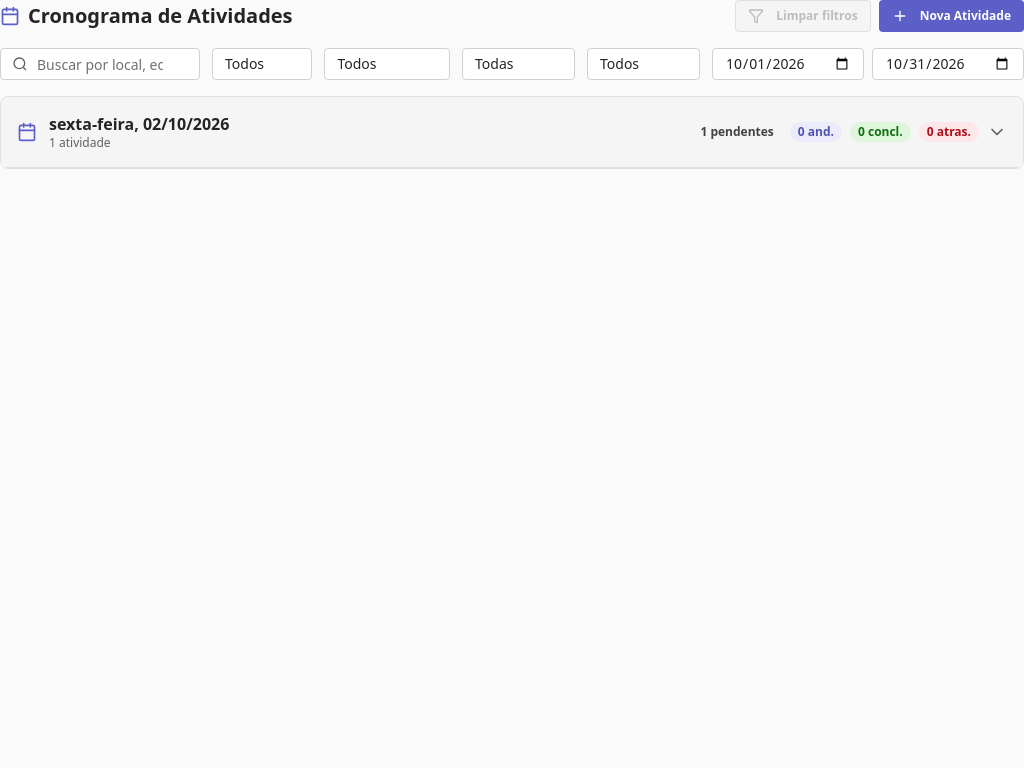
Scenario: CronogramaView — validação do formulário › bloqueia o envio sem equipe selecionada
This screenshot has width=1024, height=768.
Step 1. Click the 3rd button → (139, 124), box [1,97,1023,168]
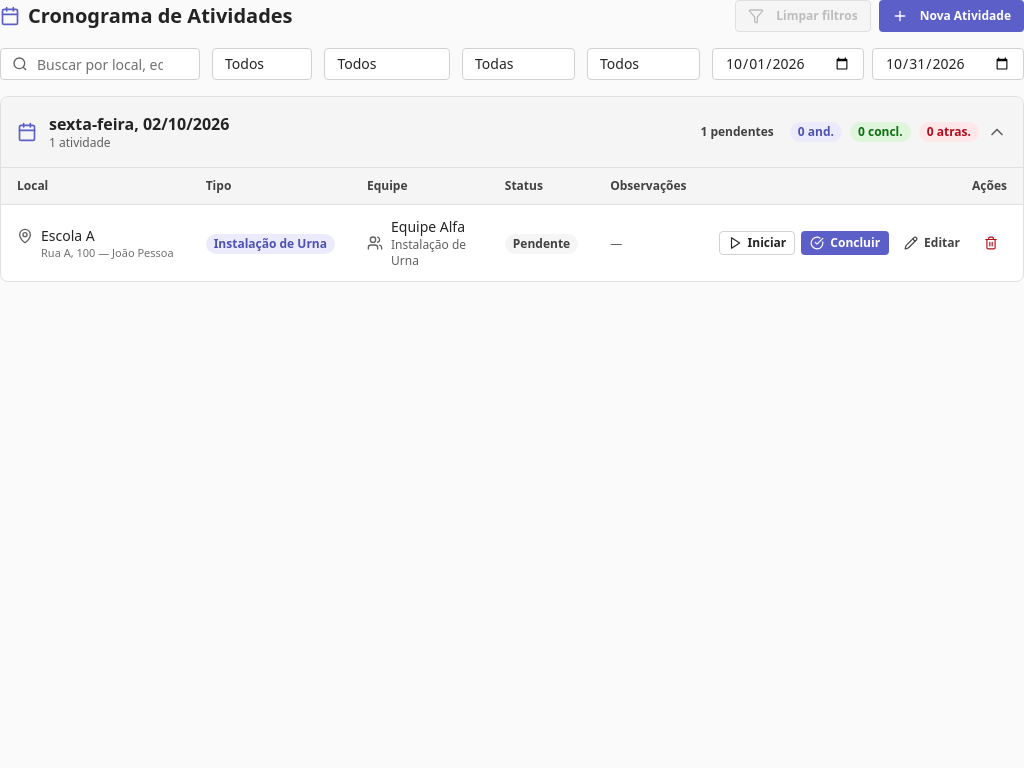
Step 2. Click the button "Editar" → (932, 243), box [895,231,969,255]
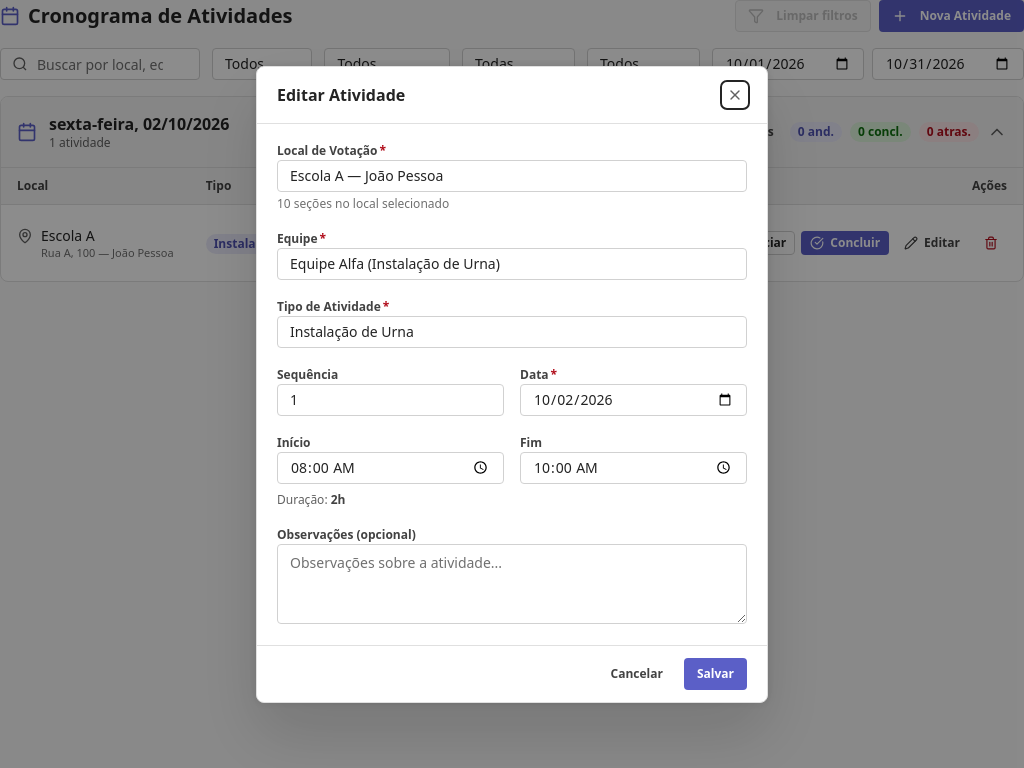
Step 3. Select "Selecione a equipe" in the dropdown labelled "Equipe*" → (512, 264), box [277,248,747,280]
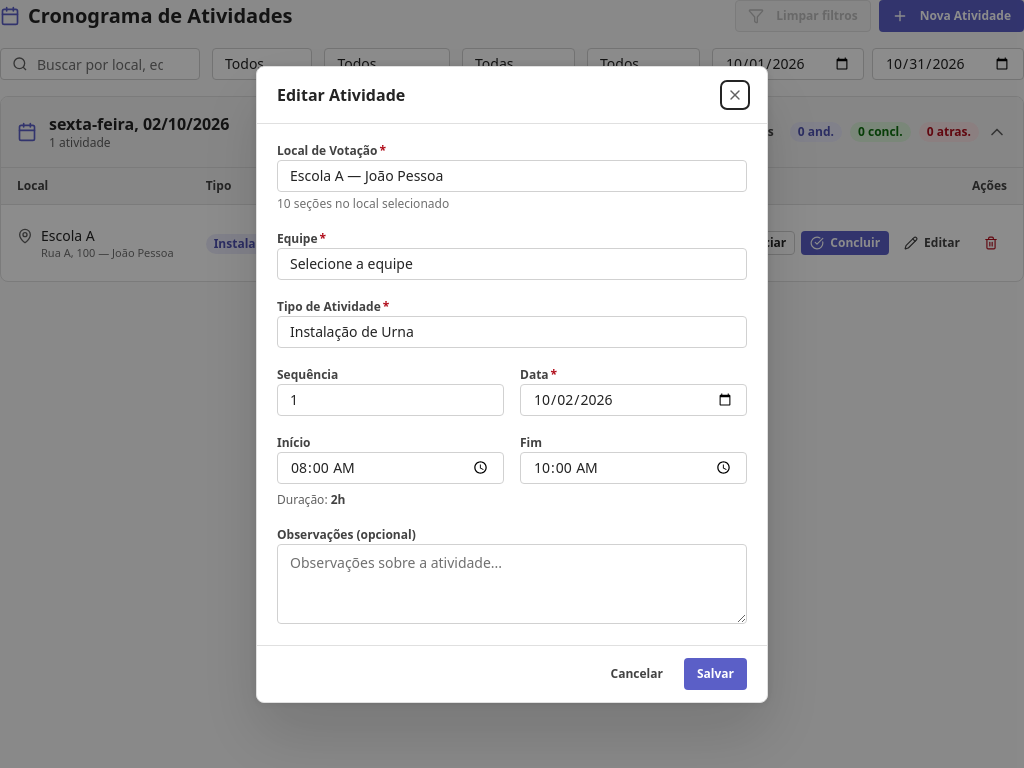
Step 4. Click the button "Salvar" → (716, 674), box [684,658,747,690]
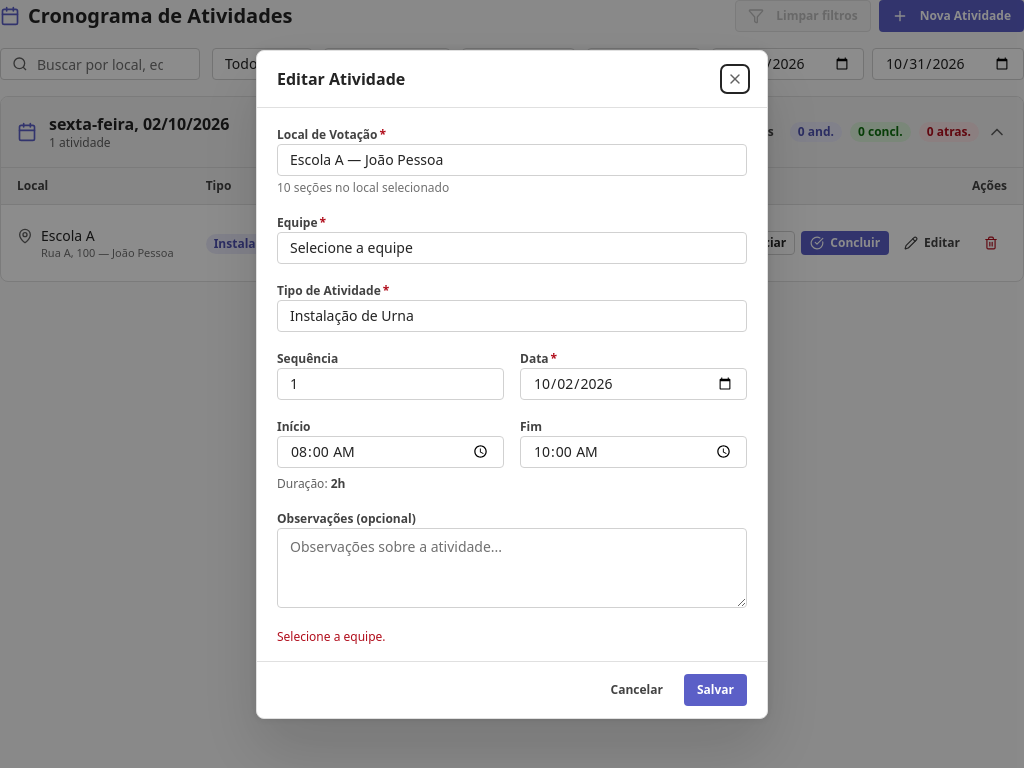
Result: the text "Selecione a equipe." is shown at [277,628,386,644]
